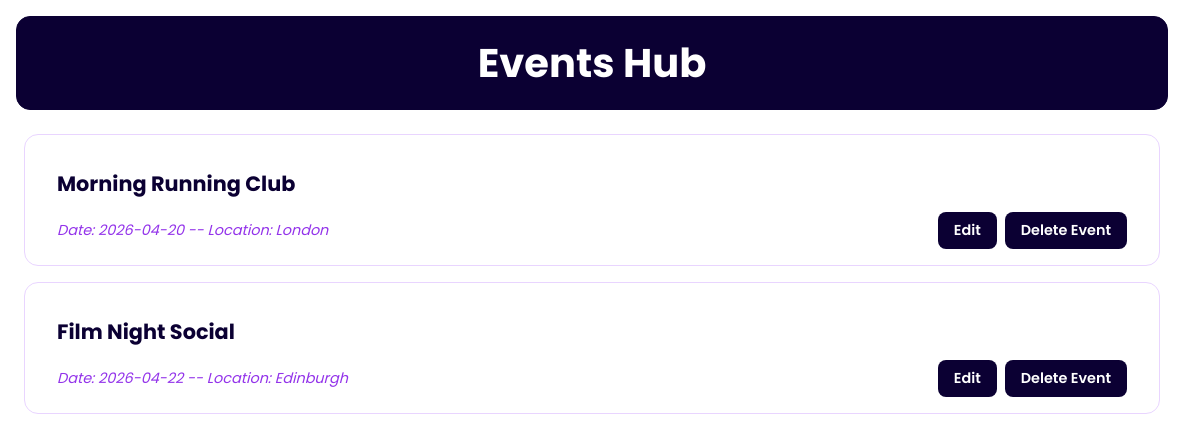
Test case: EventHub › shows confirmation prompt when Delete Event is clicked
The width and height of the screenshot is (1185, 431).
Click the button "Delete Event" in the row of "London": (1066, 230) [1005,212,1127,249]
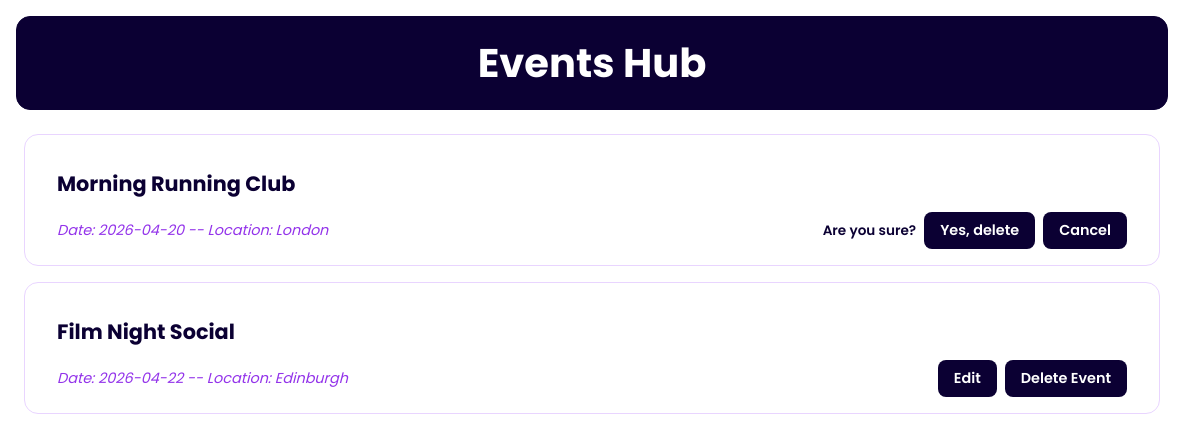
Expected: the text "Are you sure?" is shown, [823,220,916,240]
Expected: the button "Yes, delete" is shown, [924,212,1035,249]
